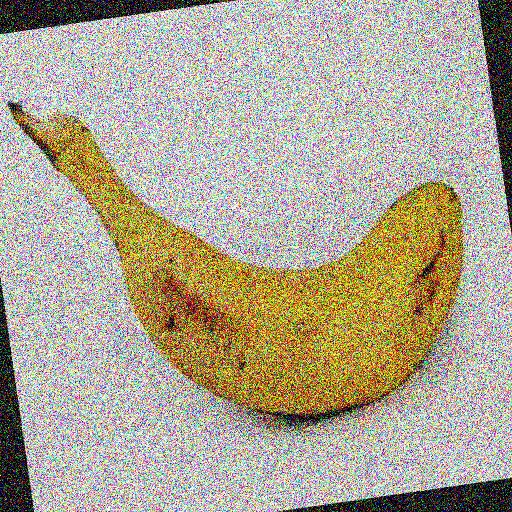fruit: (0, 64, 54, 185)
